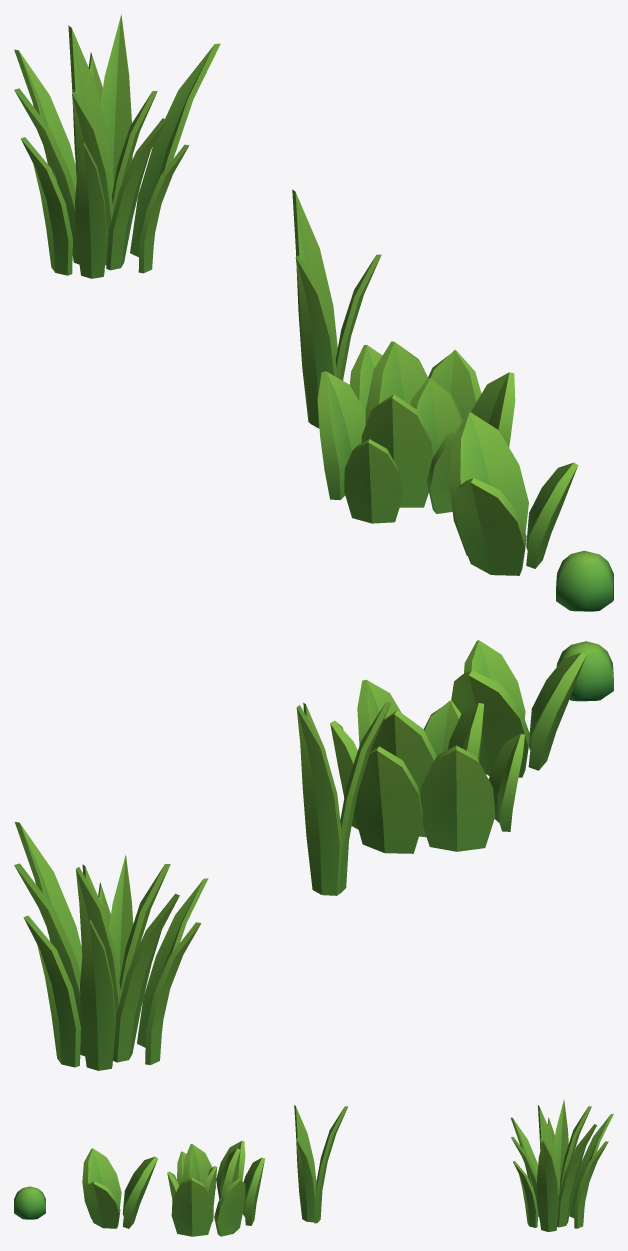
Rendered from grass_04.glb.
3 renders of one model, top to bottom at view 1: azimuth 30°, elevation 25°; view 2: azimuth 150°, elevation 25°; view 3: azimuth 270°, elevation 25°, orthographic. The views are drawn at different scales.
Parts seen in each view (by area): view 1: Grass_2_C_Color1, Grass_1_C_Color1, Grass_1_B_Color1, Grass_2_B_Color1, Bush_1_A_Color1; view 2: Grass_2_C_Color1, Grass_1_C_Color1, Grass_1_B_Color1, Grass_2_B_Color1, Bush_1_A_Color1; view 3: Grass_2_C_Color1, Grass_1_C_Color1, Grass_1_B_Color1, Grass_2_B_Color1, Bush_1_A_Color1.
Part boxes in pixels (x1=…): Grass_2_C_Color1: x1=14, y1=14, x2=220, y2=278; Grass_1_C_Color1: x1=317, y1=341, x2=515, y2=523; Grass_1_B_Color1: x1=448, y1=411, x2=578, y2=575; Grass_2_B_Color1: x1=292, y1=189, x2=381, y2=428; Bush_1_A_Color1: x1=556, y1=550, x2=613, y2=611; Grass_2_C_Color1: x1=14, y1=822, x2=208, y2=1070; Grass_1_C_Color1: x1=330, y1=679, x2=524, y2=853; Grass_1_B_Color1: x1=451, y1=640, x2=586, y2=777; Grass_2_B_Color1: x1=296, y1=702, x2=391, y2=895; Bush_1_A_Color1: x1=556, y1=641, x2=613, y2=701; Grass_2_C_Color1: x1=511, y1=1099, x2=613, y2=1231; Grass_1_C_Color1: x1=167, y1=1141, x2=264, y2=1236; Grass_1_B_Color1: x1=82, y1=1148, x2=157, y2=1228; Grass_2_B_Color1: x1=294, y1=1105, x2=348, y2=1223; Bush_1_A_Color1: x1=14, y1=1186, x2=45, y2=1219.
Size of the model in its own units: 0.8965 by 0.9438 by 4.39.
Materials: 5 (5 with a texture image).
